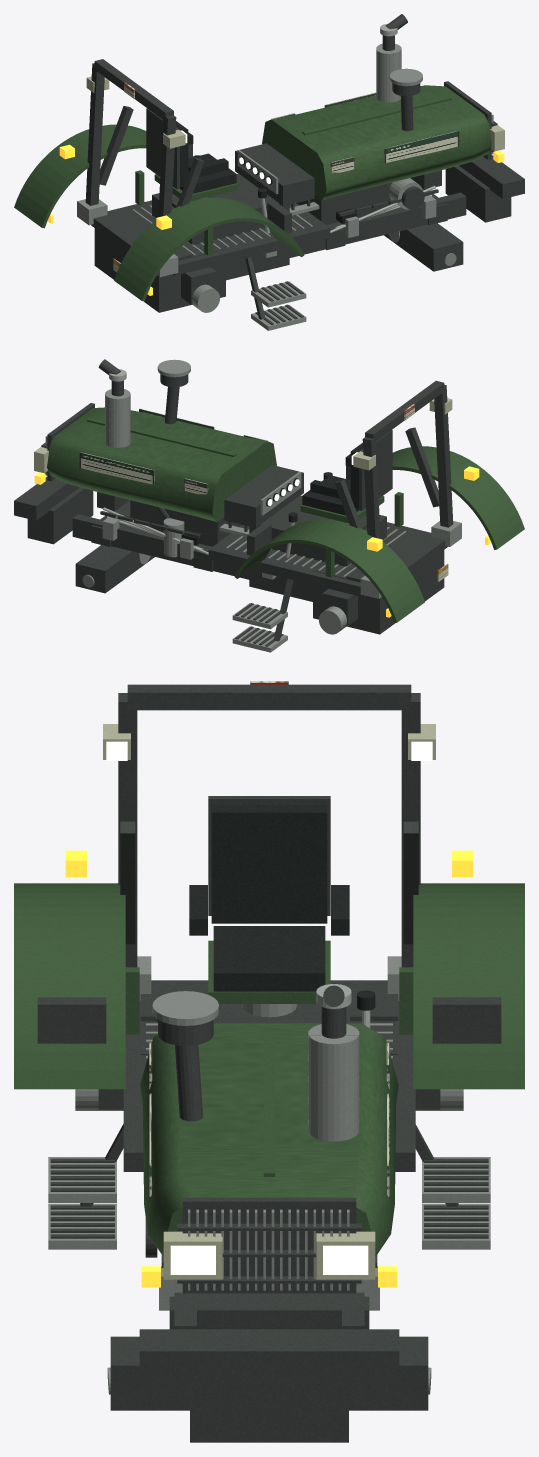
Rendered from PZ_FIELDWARD_75D_Engine_Chassis_Body.glb.
The picture shows the model from 3 angles, top to bottom: view 1: azimuth 30°, elevation 25°; view 2: azimuth 150°, elevation 25°; view 3: azimuth 270°, elevation 25°; orthographic projection. The views are drawn at different scales.
Parts seen in each view (by area): view 1: FIELDWARD_Contoured_Hood_Watertight, Rear_R_ClosedCurved_Fender, Rear_L_ClosedCurved_Fender, Operator_CorrugatedPlatform, Rear_Differential_AxleHousing, Chassis_R_MainLadderRail, Dashboard_Base, Transmission_Gearbox_CastCase, Front_Axle_Pivot_HeavyBeam, Front_Ballast_Counterweight_Block, ROPS_L_MainVertical, Diesel_I4_EngineBlock (+27 smaller); view 2: FIELDWARD_Contoured_Hood_Watertight, Rear_L_ClosedCurved_Fender, Rear_R_ClosedCurved_Fender, Operator_CorrugatedPlatform, Rear_Differential_AxleHousing, Chassis_L_MainLadderRail, Dashboard_Base, Transmission_Gearbox_CastCase, Front_Axle_Pivot_HeavyBeam, Front_Ballast_Counterweight_Block, ROPS_R_MainVertical, Diesel_I4_EngineBlock (+28 smaller); view 3: FIELDWARD_Contoured_Hood_Watertight, Rear_L_ClosedCurved_Fender, Rear_R_ClosedCurved_Fender, Seat_Backrest_CurvedProfile, Front_HeavySteel_Bumper, Front_Ballast_Counterweight_Block, Front_Grille_Face, ROPS_TopCrossbar, Front_Axle_Pivot_HeavyBeam, Seat_Black_Vinyl_Cushion, Chassis_CrossMember_3, Operator_CorrugatedPlatform (+32 smaller).
Part boxes in pixels (x1=…): FIELDWARD_Contoured_Hood_Watertight: x1=262, y1=85, x2=491, y2=200; Rear_R_ClosedCurved_Fender: x1=114, y1=197, x2=304, y2=301; Rear_L_ClosedCurved_Fender: x1=14, y1=124, x2=146, y2=228; Operator_CorrugatedPlatform: x1=107, y1=200, x2=330, y2=275; Rear_Differential_AxleHousing: x1=94, y1=204, x2=225, y2=312; Chassis_R_MainLadderRail: x1=244, y1=192, x2=466, y2=269; Dashboard_Base: x1=235, y1=143, x2=314, y2=206; Transmission_Gearbox_CastCase: x1=152, y1=173, x2=289, y2=280; Front_Axle_Pivot_HeavyBeam: x1=384, y1=223, x2=463, y2=271; Front_Ballast_Counterweight_Block: x1=445, y1=165, x2=511, y2=222; ROPS_L_MainVertical: x1=85, y1=63, x2=104, y2=205; Diesel_I4_EngineBlock: x1=296, y1=182, x2=391, y2=224; FIELDWARD_Contoured_Hood_Watertight: x1=47, y1=407, x2=276, y2=521; Rear_L_ClosedCurved_Fender: x1=235, y1=519, x2=424, y2=622; Rear_R_ClosedCurved_Fender: x1=392, y1=446, x2=524, y2=549; Operator_CorrugatedPlatform: x1=208, y1=522, x2=431, y2=597; Rear_Differential_AxleHousing: x1=313, y1=526, x2=444, y2=634; Chassis_L_MainLadderRail: x1=72, y1=514, x2=294, y2=590; Dashboard_Base: x1=224, y1=465, x2=303, y2=527; Transmission_Gearbox_CastCase: x1=249, y1=495, x2=386, y2=601; Front_Axle_Pivot_HeavyBeam: x1=75, y1=545, x2=154, y2=593; Front_Ballast_Counterweight_Block: x1=27, y1=487, x2=93, y2=544; ROPS_R_MainVertical: x1=434, y1=384, x2=453, y2=527; Diesel_I4_EngineBlock: x1=130, y1=500, x2=242, y2=546; FIELDWARD_Contoured_Hood_Watertight: x1=140, y1=1023, x2=398, y2=1256; Rear_L_ClosedCurved_Fender: x1=413, y1=883, x2=524, y2=1089; Rear_R_ClosedCurved_Fender: x1=14, y1=883, x2=125, y2=1089; Seat_Backrest_CurvedProfile: x1=211, y1=804, x2=327, y2=923; Front_HeavySteel_Bumper: x1=139, y1=1329, x2=399, y2=1380; Front_Ballast_Counterweight_Block: x1=190, y1=1380, x2=348, y2=1442; Front_Grille_Face: x1=182, y1=1197, x2=356, y2=1293; ROPS_TopCrossbar: x1=127, y1=684, x2=411, y2=710; Front_Axle_Pivot_HeavyBeam: x1=110, y1=1336, x2=428, y2=1410; Seat_Black_Vinyl_Cushion: x1=213, y1=926, x2=325, y2=991; Chassis_CrossMember_3: x1=169, y1=1293, x2=369, y2=1329; Operator_CorrugatedPlatform: x1=123, y1=1001, x2=415, y2=1171.
Bounding box in the file's own units: 4.46 × 2.31 × 2.38.
10 materials, 10 textured.
